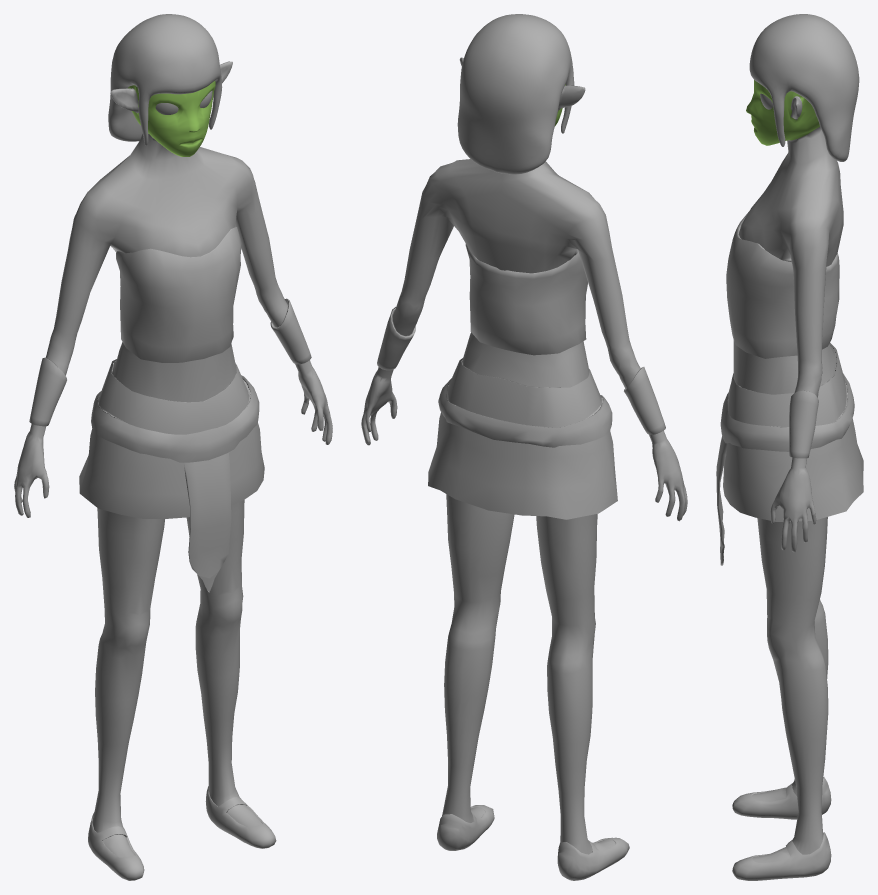
The model's file is NewMC_low.fbx.
3 views of the same model, side by side, from view 1: azimuth 30°, elevation 25°; view 2: azimuth 150°, elevation 25°; view 3: azimuth 270°, elevation 25° (orthographic). The views are drawn at different scales.
Visible parts, largest first — view 1: headbody_low, skirt_low, chestpiece_low, hair_low, band_low, floppything_low, shoes_low, armband_low; view 2: headbody_low, skirt_low, hair_low, chestpiece_low, band_low, shoes_low, armband_low; view 3: headbody_low, skirt_low, hair_low, chestpiece_low, shoes_low, band_low, armband_low, floppything_low.
Boxes of the visible parts, box(x1,y1,x2,y2) form: headbody_low: box(14, 61, 332, 857); skirt_low: box(79, 359, 264, 518); chestpiece_low: box(116, 227, 241, 362); hair_low: box(108, 14, 222, 145); band_low: box(91, 375, 259, 462); floppything_low: box(184, 452, 231, 592); shoes_low: box(88, 786, 276, 880); armband_low: box(29, 298, 311, 426); headbody_low: box(361, 57, 687, 854); skirt_low: box(428, 358, 617, 519); hair_low: box(457, 14, 574, 174); chestpiece_low: box(465, 244, 587, 355); band_low: box(438, 378, 612, 447); shoes_low: box(437, 805, 629, 880); armband_low: box(377, 307, 665, 434); headbody_low: box(733, 80, 843, 862); skirt_low: box(723, 343, 863, 521); hair_low: box(749, 14, 859, 161); chestpiece_low: box(726, 212, 839, 358); shoes_low: box(732, 777, 831, 880); band_low: box(720, 373, 854, 451); armband_low: box(789, 390, 818, 458); floppything_low: box(716, 436, 727, 565).
Size of the model in its own units: 2.18 by 5.45 by 0.8784.
